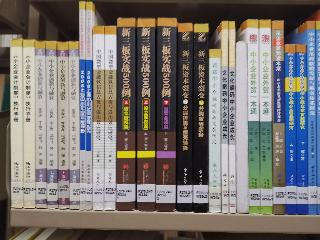book-spine: (112, 18, 139, 211), (134, 17, 157, 212), (155, 16, 177, 213), (190, 24, 210, 214), (176, 23, 194, 213), (245, 19, 262, 214), (304, 21, 319, 215), (271, 21, 286, 214), (234, 42, 250, 214), (259, 20, 273, 214), (207, 49, 223, 212), (91, 25, 105, 211), (44, 40, 59, 210), (21, 40, 36, 208), (104, 25, 117, 211), (284, 44, 298, 215), (9, 39, 23, 208), (33, 40, 47, 209), (226, 21, 238, 213), (295, 43, 308, 215), (57, 41, 69, 210), (69, 40, 80, 211), (85, 1, 93, 210), (79, 2, 86, 210), (221, 21, 228, 212)
